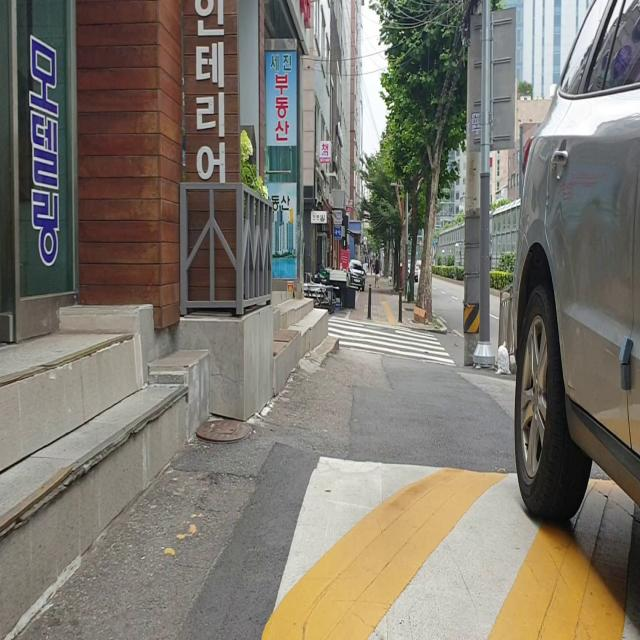횡단보도: (327, 315, 457, 368)
